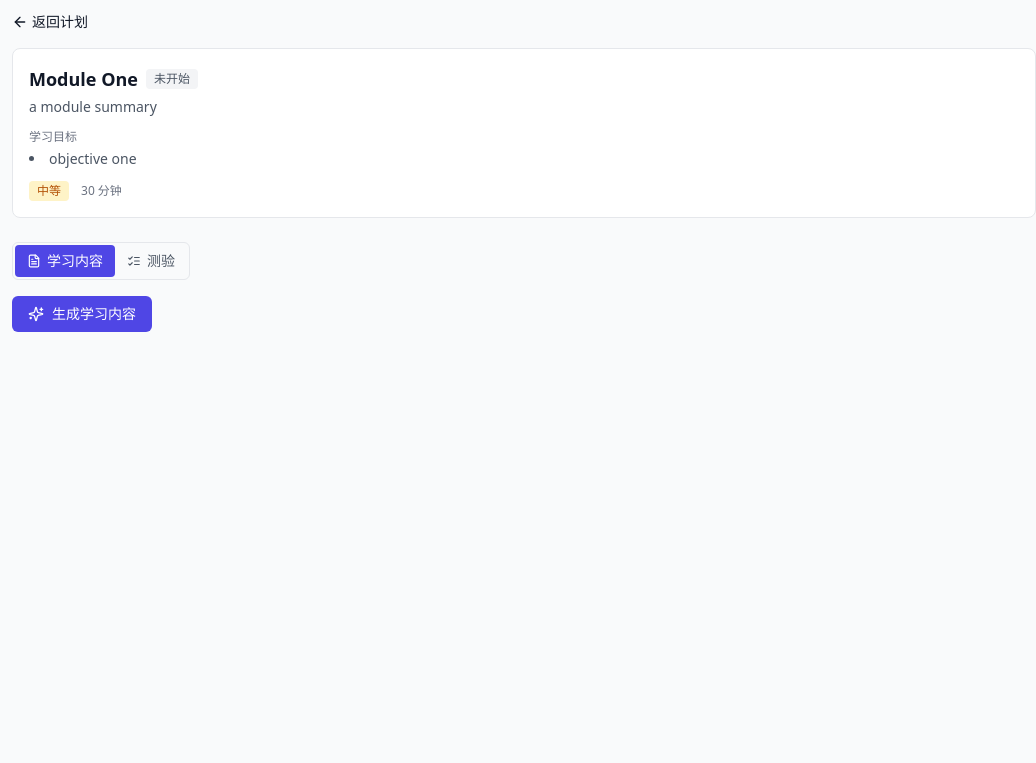
ModuleDetail › records an MCQ answer and submits it for grading
Click the button "测验": (151, 261) [115, 245, 187, 277]
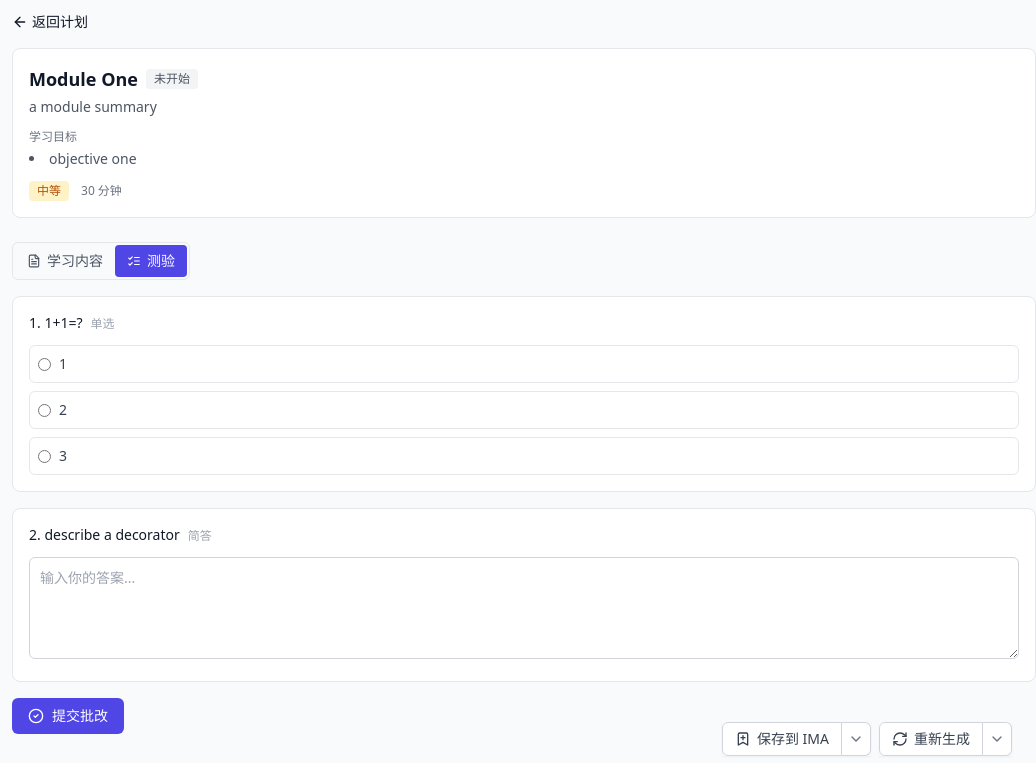
Click the radio button labelled "2": (44, 410) [38, 404, 51, 416]
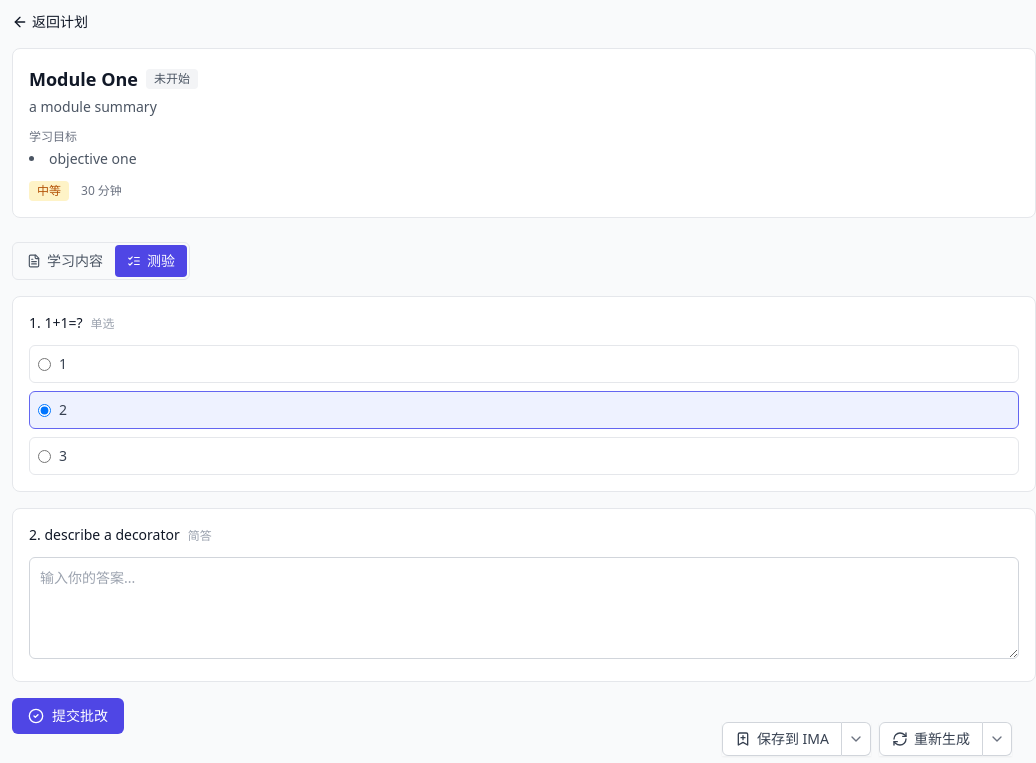
Check: the radio button labelled "2" is checked, box [38, 404, 51, 416]
Click the button "提交批改": (68, 716) [12, 698, 124, 734]
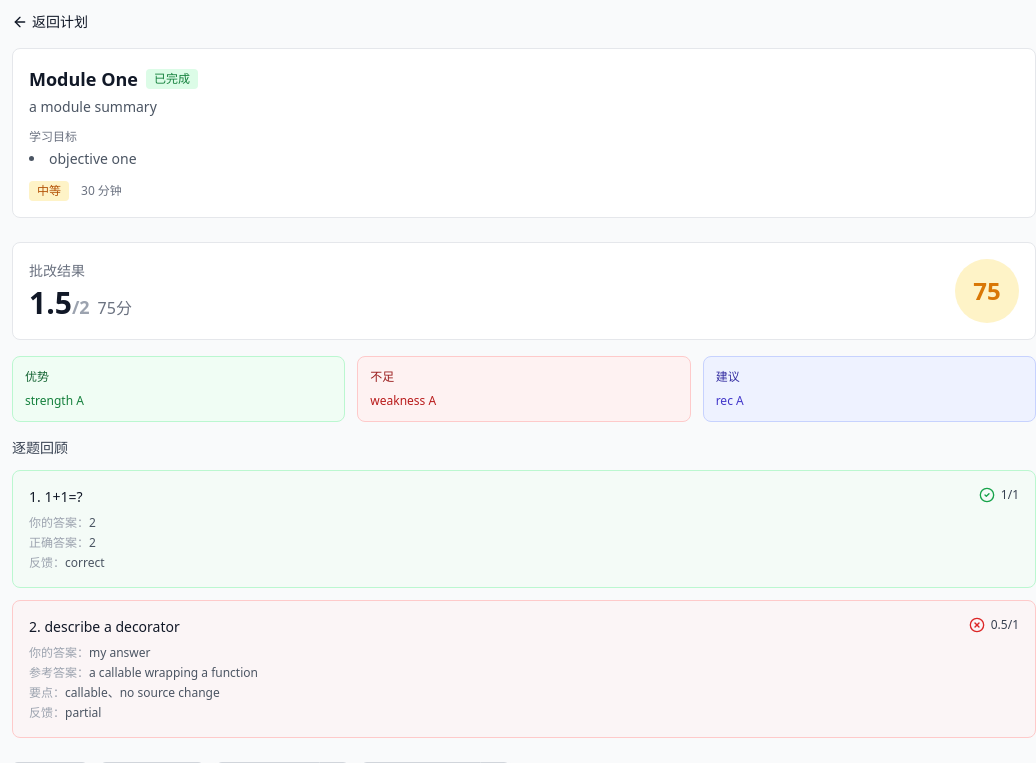
Check: the text "批改结果" is shown, box [29, 261, 85, 280]
